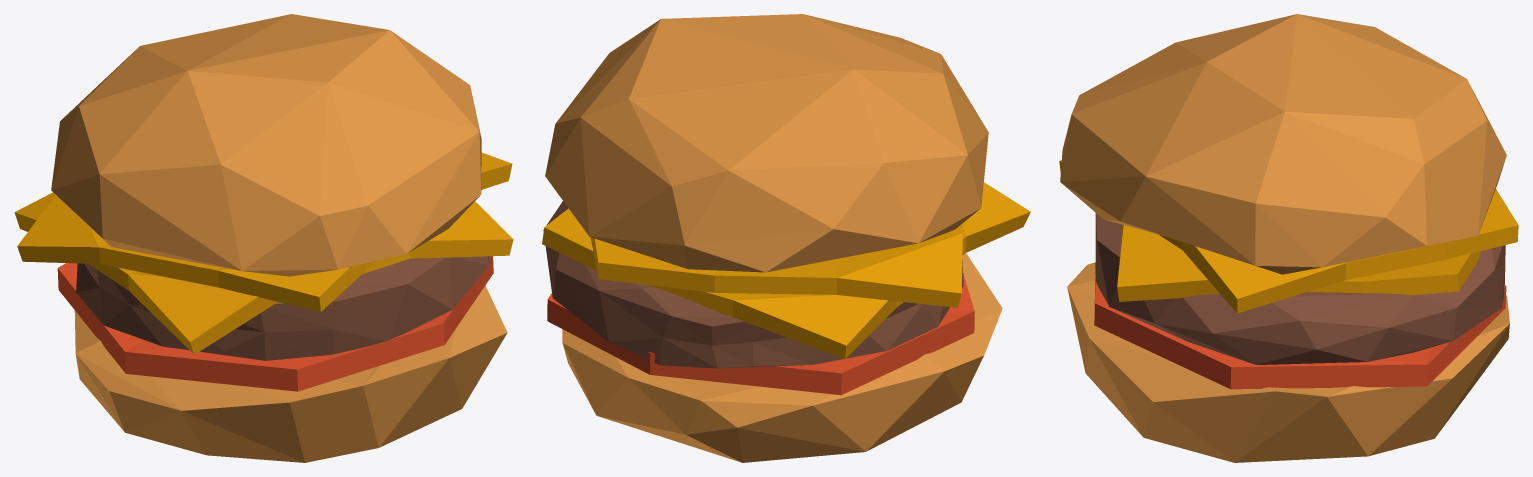
Rendered from Burger.glb.
The picture shows the model from 3 angles, left to right: view 1: azimuth 30°, elevation 25°; view 2: azimuth 150°, elevation 25°; view 3: azimuth 270°, elevation 25°; orthographic projection.
Parts seen in each view (by area): view 1: Burger; view 2: Burger; view 3: Burger.
Part boxes in pixels (box(x1,y1,x2,y2)): Burger: box(14, 14, 513, 462); Burger: box(542, 14, 1030, 462); Burger: box(1059, 14, 1518, 462).
Size of the model in its own units: 0.1929 by 0.1459 by 0.1779.
